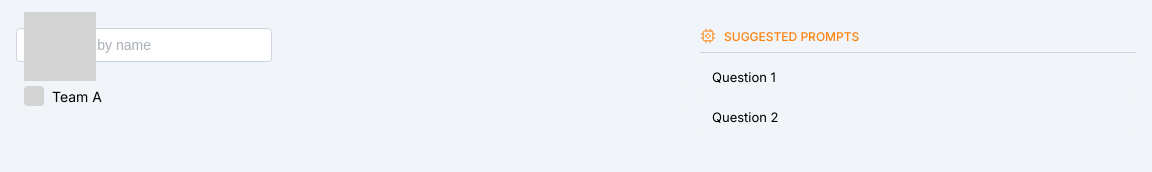
it: HuskyAskPrompts › displays no results found when no prompts match the search
Expected: the text "Team A" is shown, [52, 88, 102, 104]
Type "Non-existent" into the search field with placeholder "Search by name" at (144, 45), box [16, 28, 272, 62]
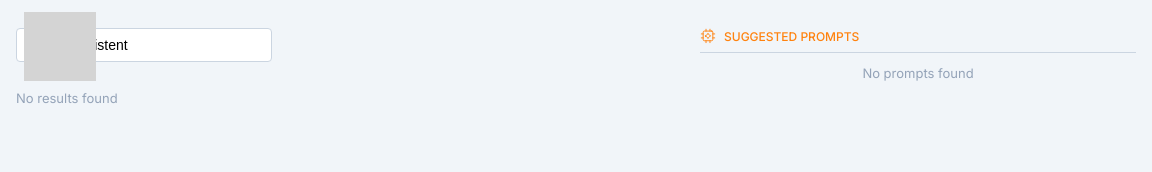
Result: the text "No results found" is shown at [16, 90, 118, 106]
